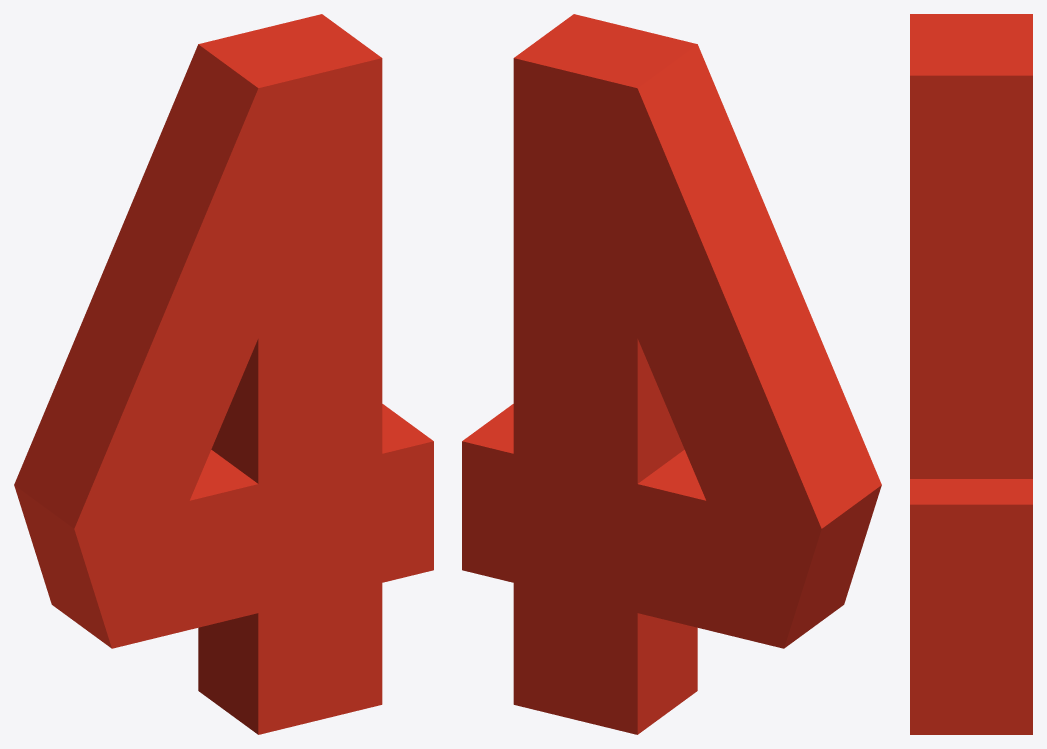
Rendered from Icon_Number_4.fbx.
3 views of the same model, side by side, from view 1: azimuth 30°, elevation 25°; view 2: azimuth 150°, elevation 25°; view 3: azimuth 270°, elevation 25° (orthographic).
Visible parts, largest first — view 1: Icon_Number_4; view 2: Icon_Number_4; view 3: Icon_Number_4.
Part boxes in pixels (x1=…): Icon_Number_4: x1=14, y1=14, x2=433, y2=734; Icon_Number_4: x1=462, y1=14, x2=881, y2=734; Icon_Number_4: x1=910, y1=14, x2=1032, y2=734.
Size of the model in its own units: 41.6 by 71.49 by 12.06.
